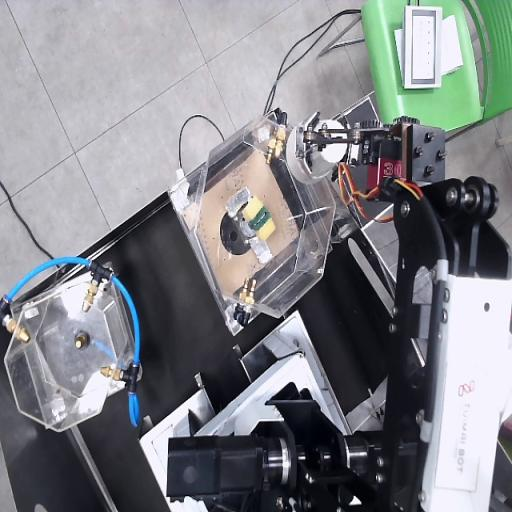cup in wash station: (286, 120, 346, 183), (306, 115, 341, 128)
